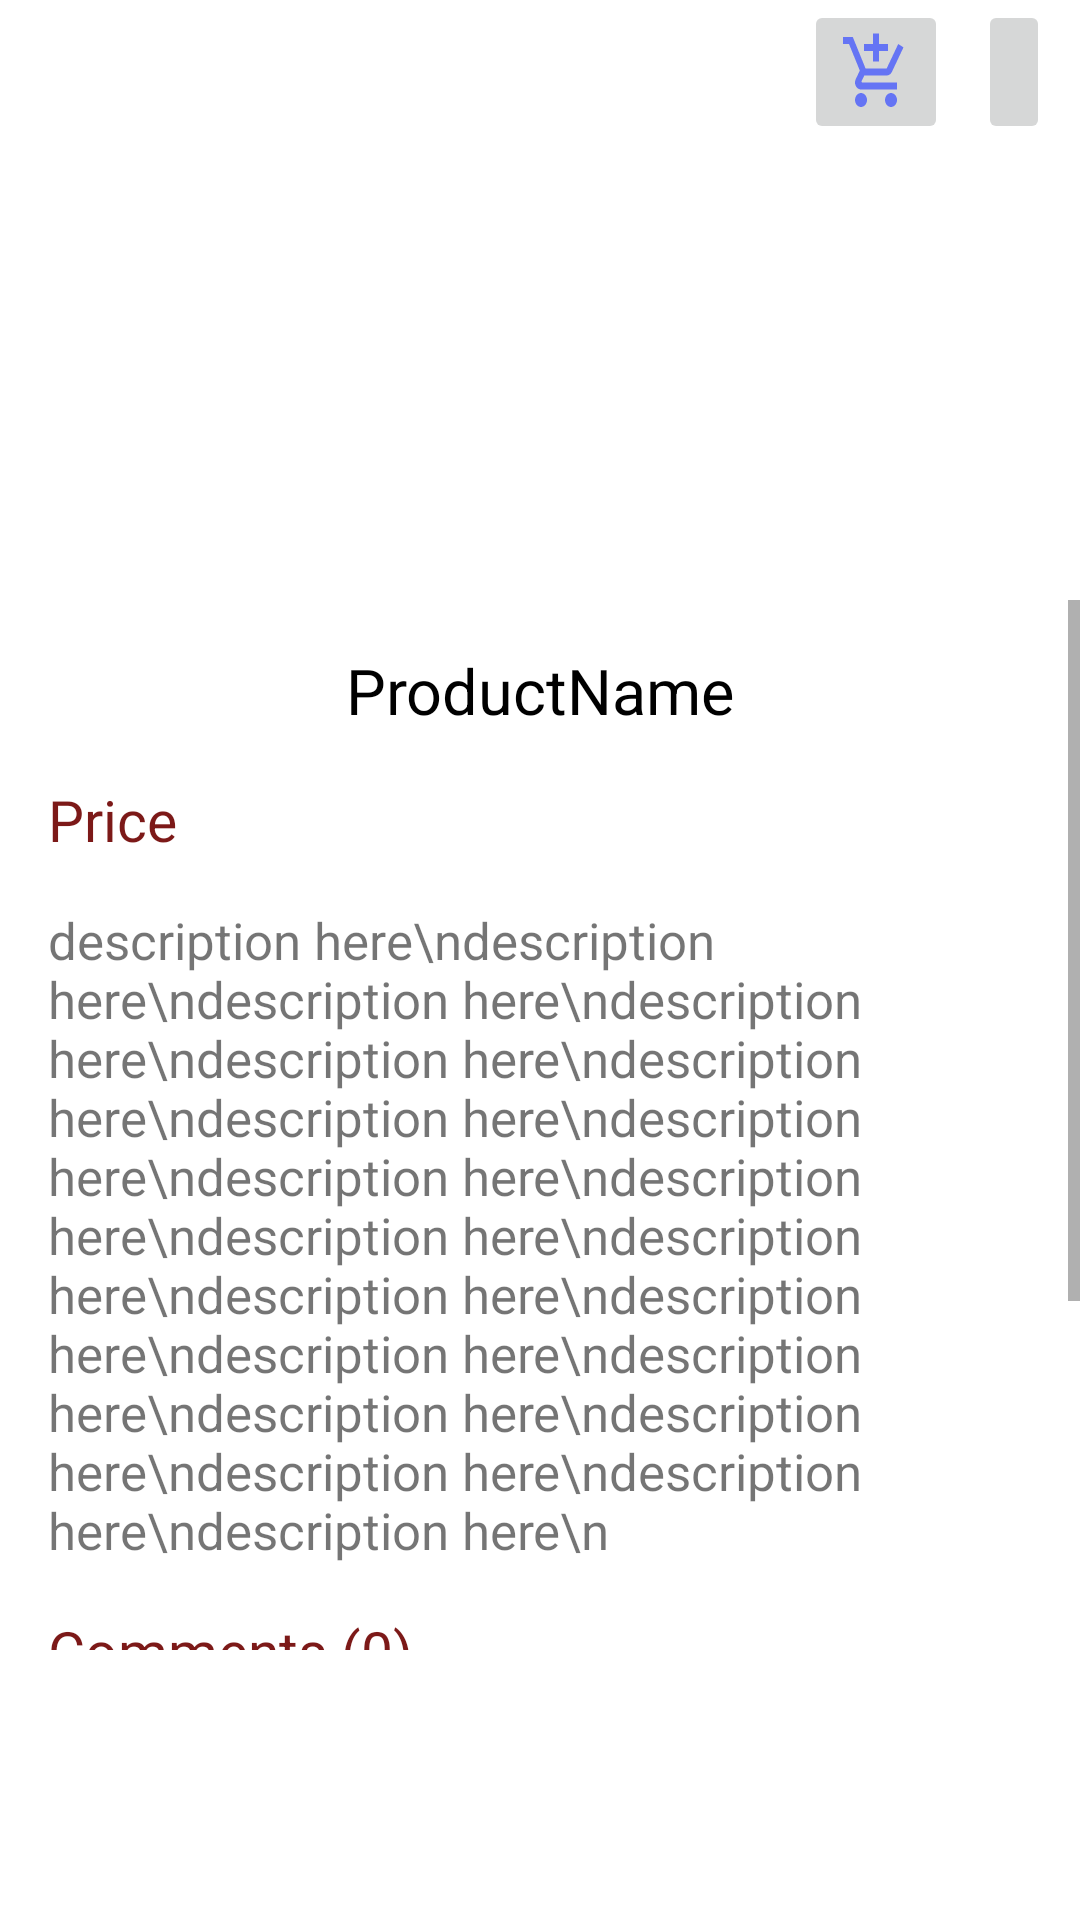

Point at icon controls on the screen. Image size 1080 x 1920, points as [x,y].
add shopping cart: [876,72]
